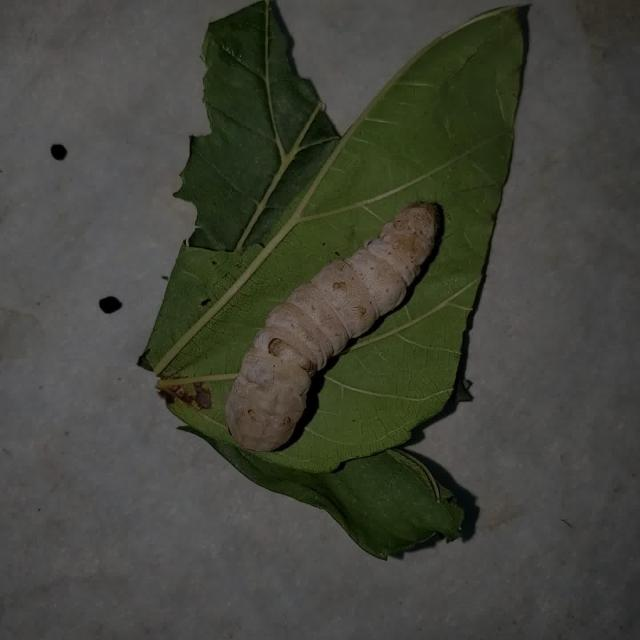Grasserie: (219, 195, 451, 462)
